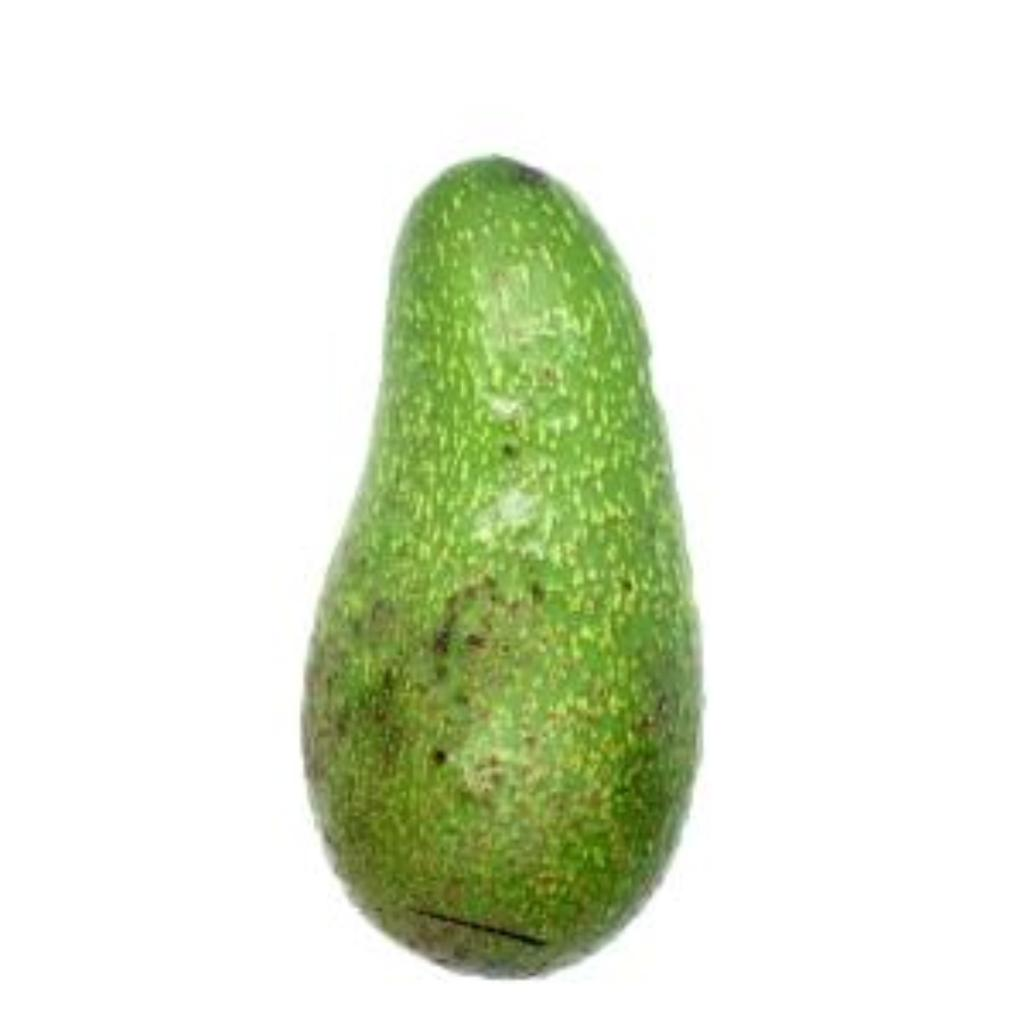cercospora: (273, 118, 730, 1009)
